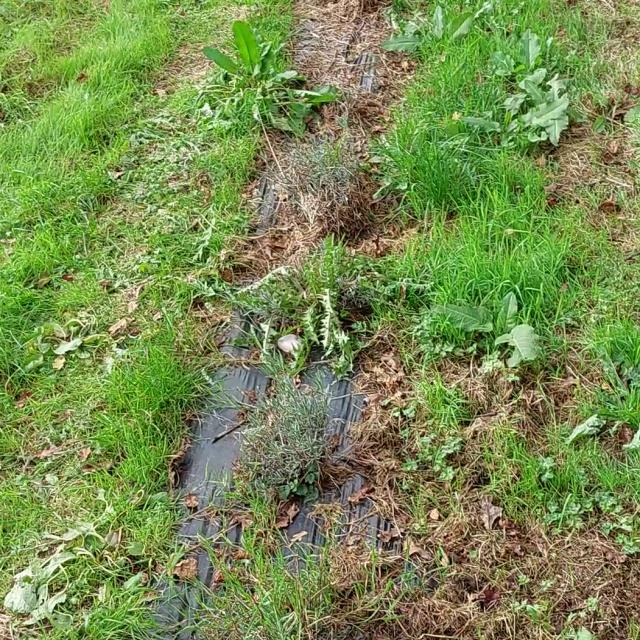organic waste: (188, 12, 344, 134), (413, 270, 568, 376), (16, 515, 137, 617), (462, 0, 566, 91), (27, 294, 131, 373), (377, 2, 503, 66), (484, 68, 585, 142)
